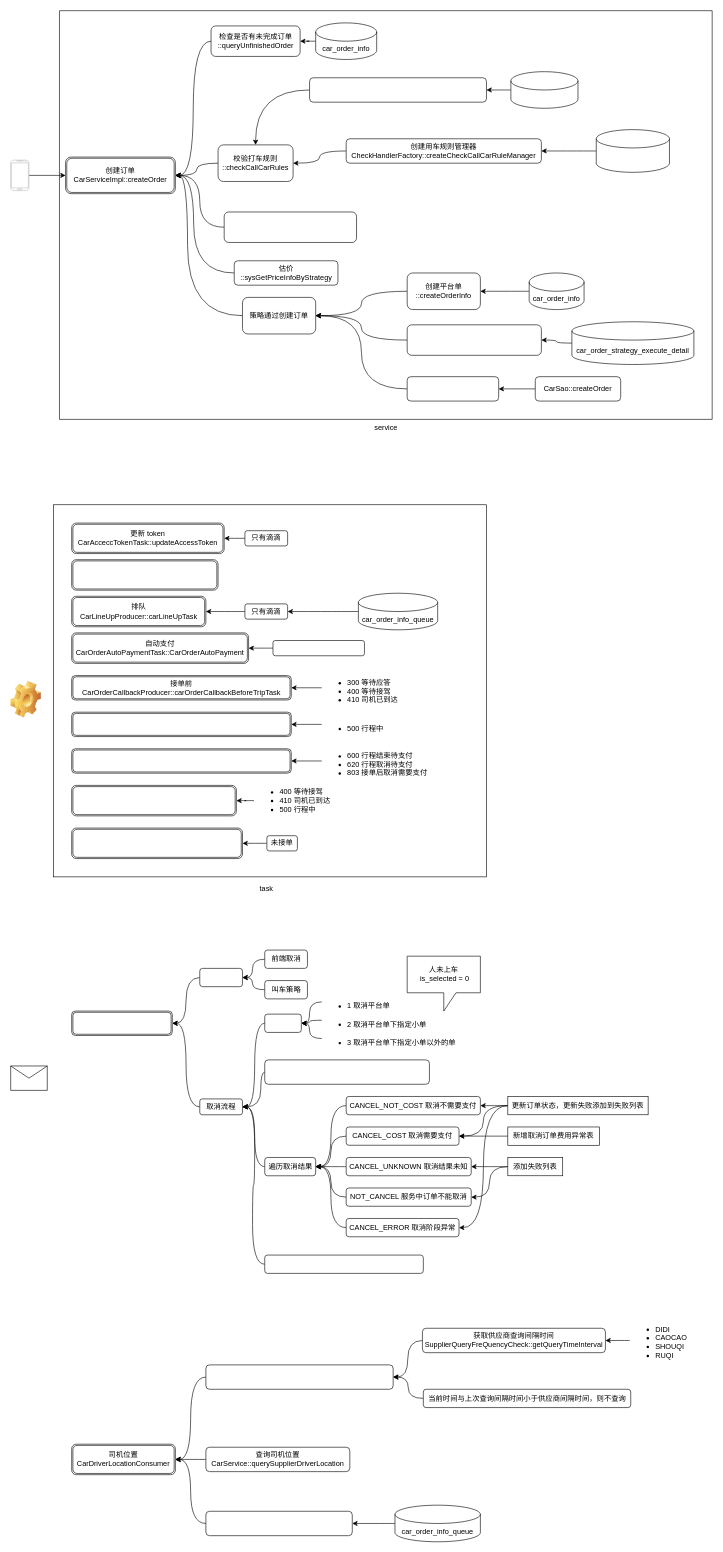
Some shapes in this 723 by 1552 pixel diagram are drawn without their labels. Here are the shapes that lost their labels. From the top down, the centre of each, then its label:
At [397,89]: "校验企业是否开通用车功能 SupplierCodeListUtil::checkCorpIsOpenCallCar".
At [544,89]: "sys_corp_supplier".
At [632,150]: "car_check_rule_info car_call_rule_info".
At [290,226]: "用车策略 StrategyCheckHandler::checkStrategy".
At [474,339]: "创建策略细节 ::createCarOrderStrategyExecuteDetail".
At [453,388]: "创建供应商订单 ::createOrderDetailAsync".
At [144,574]: "同步账号 CarAsyncAccountTask::asyncCarAccount".
At [318,648]: "7天之前且需要支付的小单".
At [181,724]: "接单中 CarOrderCallbackProducer::carOrderCallbackGoingTripTask".
At [181,760]: "接单后 CarOrderCallbackProducer::carOrderCallbackAfterTripTask".
At [153,800]: "司机位置 DriverLocationTaskProducer::driverLocationTask".
At [156,843]: "策略切换 StrategySwitchTaskProducer::strategySwitchTask".
At [220,977]: "消息来源".
At [121,1022]: "取消订单 CarCancellationConsumer".
At [282,1023]: "查询小单".
At [346,1071]: "取消小单 CarCancelOrderService::getCancelOrderFuture".
At [343,1263]: "如果有异常或失败列表不为空则再次生产消息".
At [299,1376]: "检查是否需要查询 ConsumerQueryService::querySupplierDriverLocation".
At [278,1523]: "更新司机位置 CarService::updateSupplierDriverLocation".
